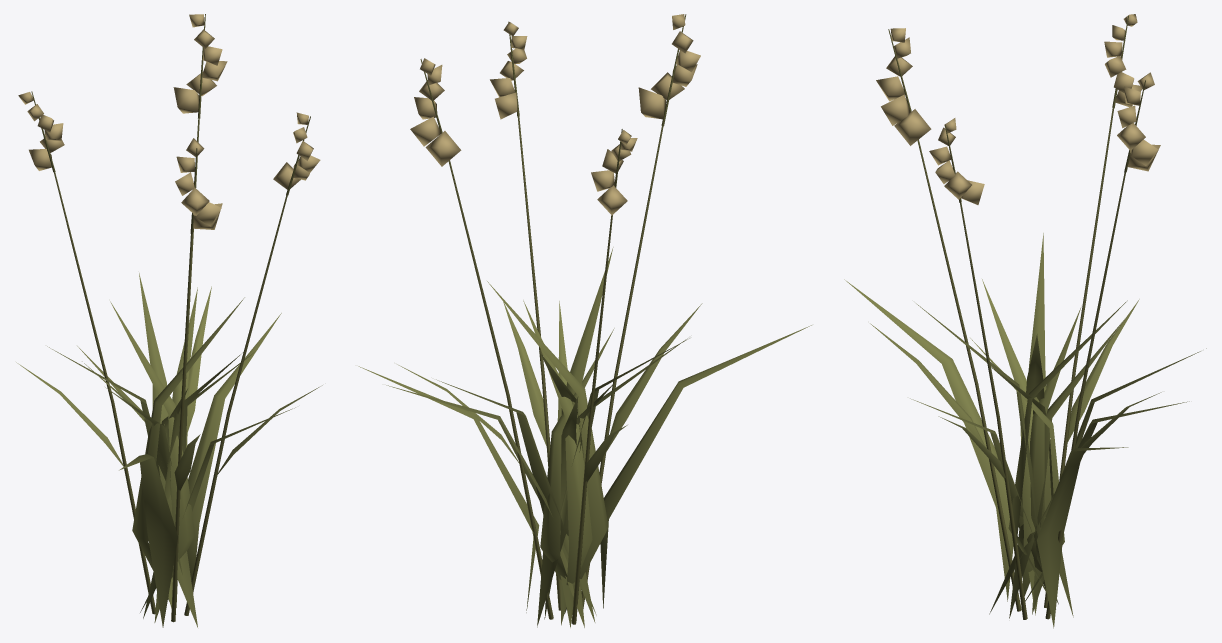
File: spear_grass.glb
3 renders of one model, left to right at view 1: azimuth 30°, elevation 25°; view 2: azimuth 150°, elevation 25°; view 3: azimuth 270°, elevation 25°, orthographic. The views are drawn at different scales.
Parts seen in each view (by area): view 1: spear_grass; view 2: spear_grass; view 3: spear_grass.
Boxes of the visible parts, x1=… form: spear_grass: x1=16, y1=14, x2=322, y2=627; spear_grass: x1=358, y1=14, x2=811, y2=627; spear_grass: x1=844, y1=14, x2=1206, y2=628.
Size of the model in its own units: 0.5006 by 0.8692 by 0.496.
